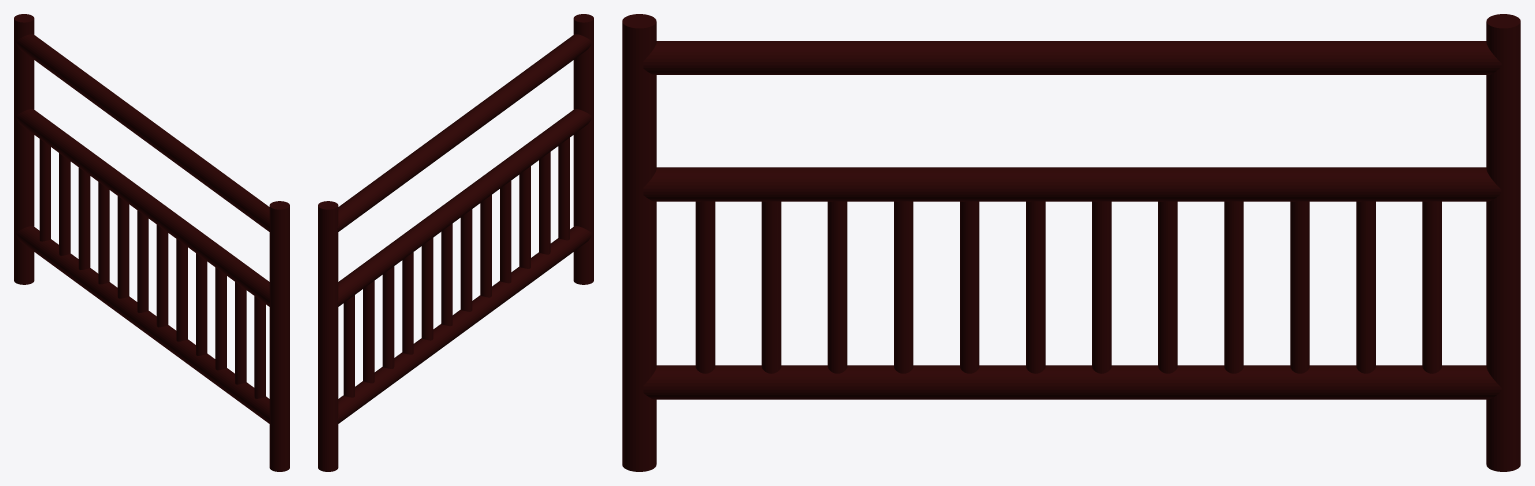
The model's file is WaterFence.fbx.
3 views of the same model, side by side, from view 1: azimuth 30°, elevation 25°; view 2: azimuth 150°, elevation 25°; view 3: azimuth 270°, elevation 25° (orthographic). The views are drawn at different scales.
Visible parts, largest first — view 1: Cylinder.016; view 2: Cylinder.016; view 3: Cylinder.016.
Boxes of the visible parts, <box> form: Cylinder.016: <box>14,14,289,471</box>; Cylinder.016: <box>318,14,593,471</box>; Cylinder.016: <box>622,14,1520,471</box>.
Size of the model in its own units: 14 by 200 by 367.
